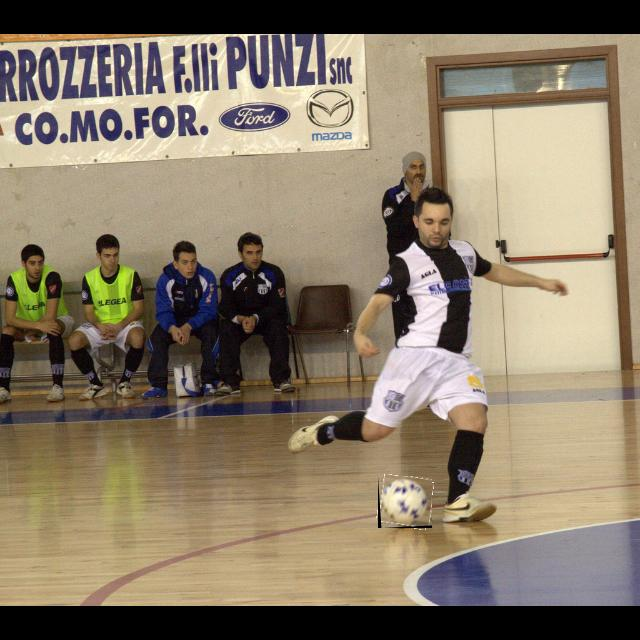Football: (378, 476, 432, 528)
